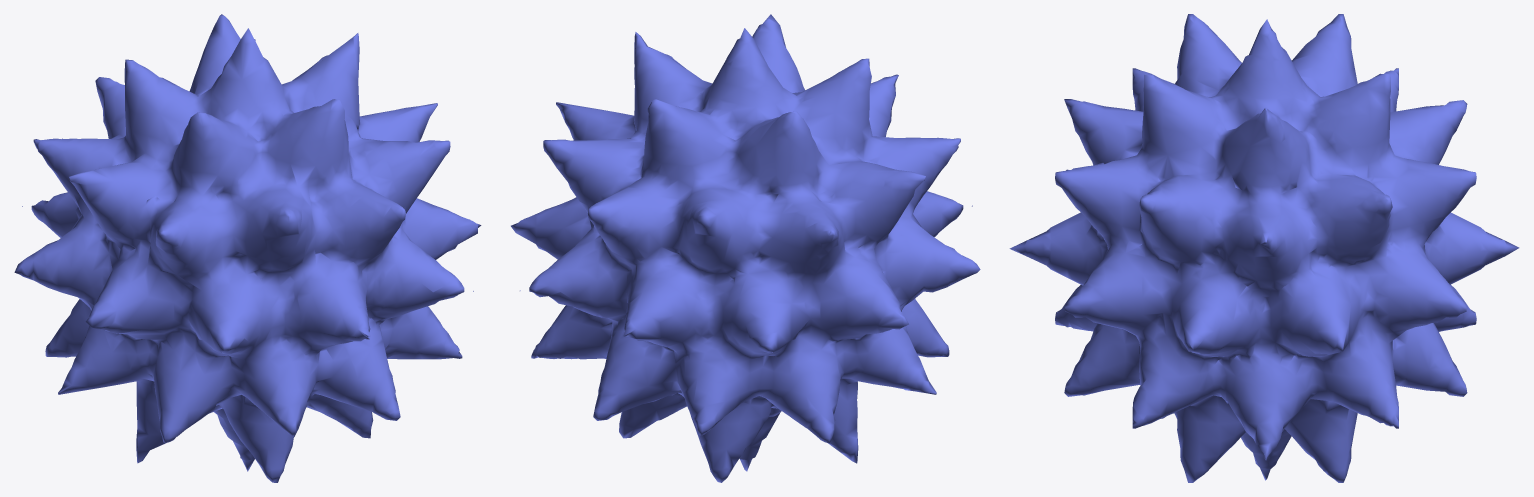
The model's file is mace.glb.
3 renders of one model, left to right at view 1: azimuth 30°, elevation 25°; view 2: azimuth 150°, elevation 25°; view 3: azimuth 270°, elevation 25°, orthographic. The views are drawn at different scales.
Parts seen in each view (by area): view 1: Icosphere.002; view 2: Icosphere.002; view 3: Icosphere.002.
Part boxes in pixels (x1,y1,x2,y2): Icosphere.002: [14, 14, 481, 482]; Icosphere.002: [511, 14, 980, 482]; Icosphere.002: [1009, 14, 1519, 482].
Size of the model in its own units: 2.81 by 3.01 by 3.01.
